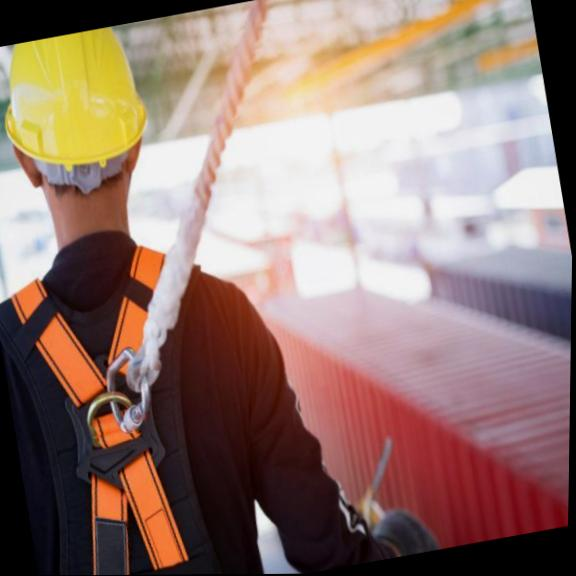no_safety_vest: (0, 218, 315, 576)
